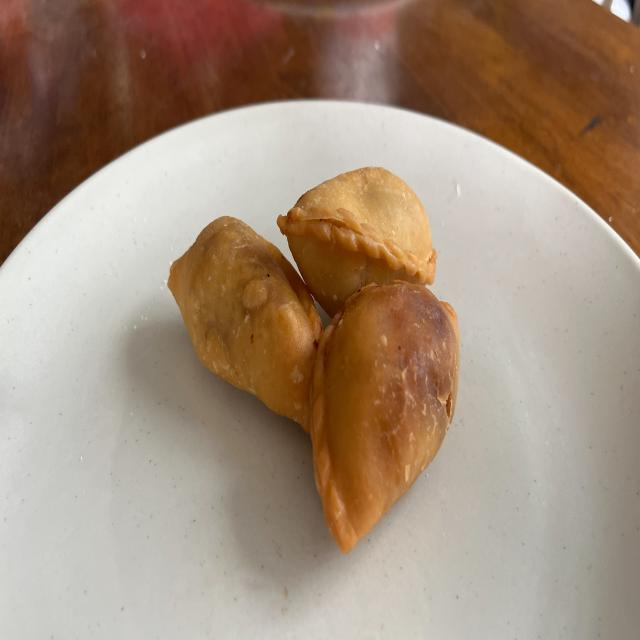karipap: (310, 280, 460, 553), (168, 216, 322, 431), (279, 169, 436, 316)
